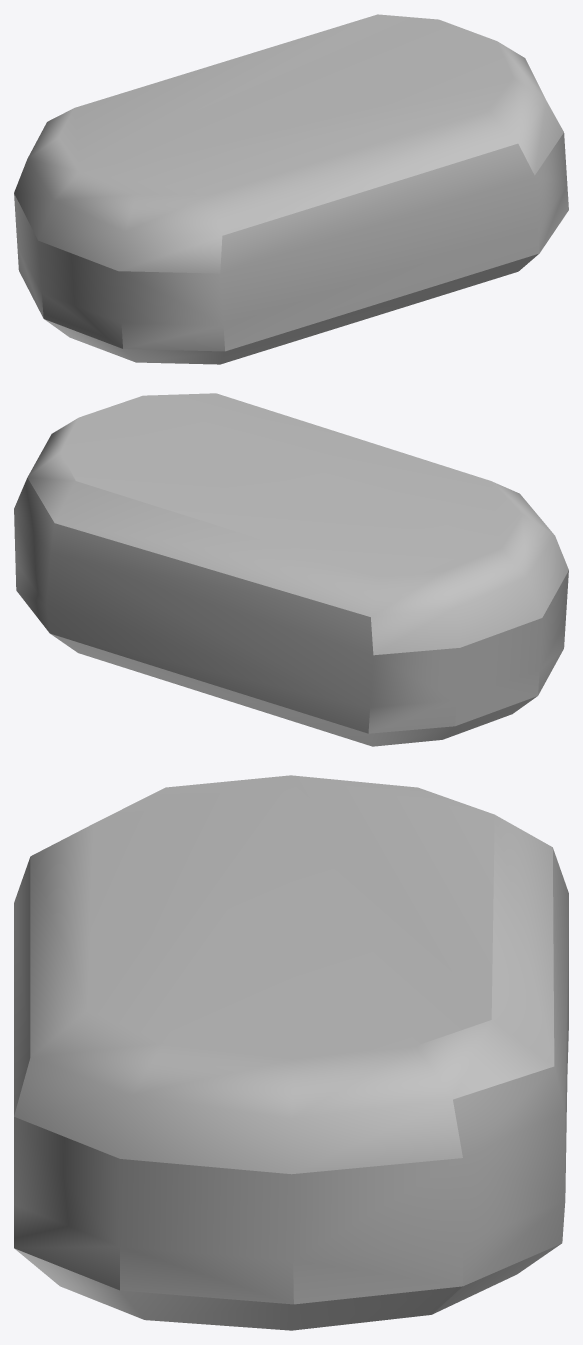
The model's file is SND_button.glb.
The picture shows the model from 3 angles, top to bottom: view 1: azimuth 30°, elevation 25°; view 2: azimuth 150°, elevation 25°; view 3: azimuth 270°, elevation 25°; orthographic projection. The views are drawn at different scales.
Parts seen in each view (by area): view 1: SND_button; view 2: SND_button; view 3: SND_button.
Boxes of the visible parts, bbox=[...] form: SND_button: bbox=[14, 14, 568, 364]; SND_button: bbox=[14, 393, 568, 746]; SND_button: bbox=[14, 775, 568, 1330].
Size of the model in its own units: 0.00221 by 0.00081 by 0.00132.
1 material, 1 textured.
